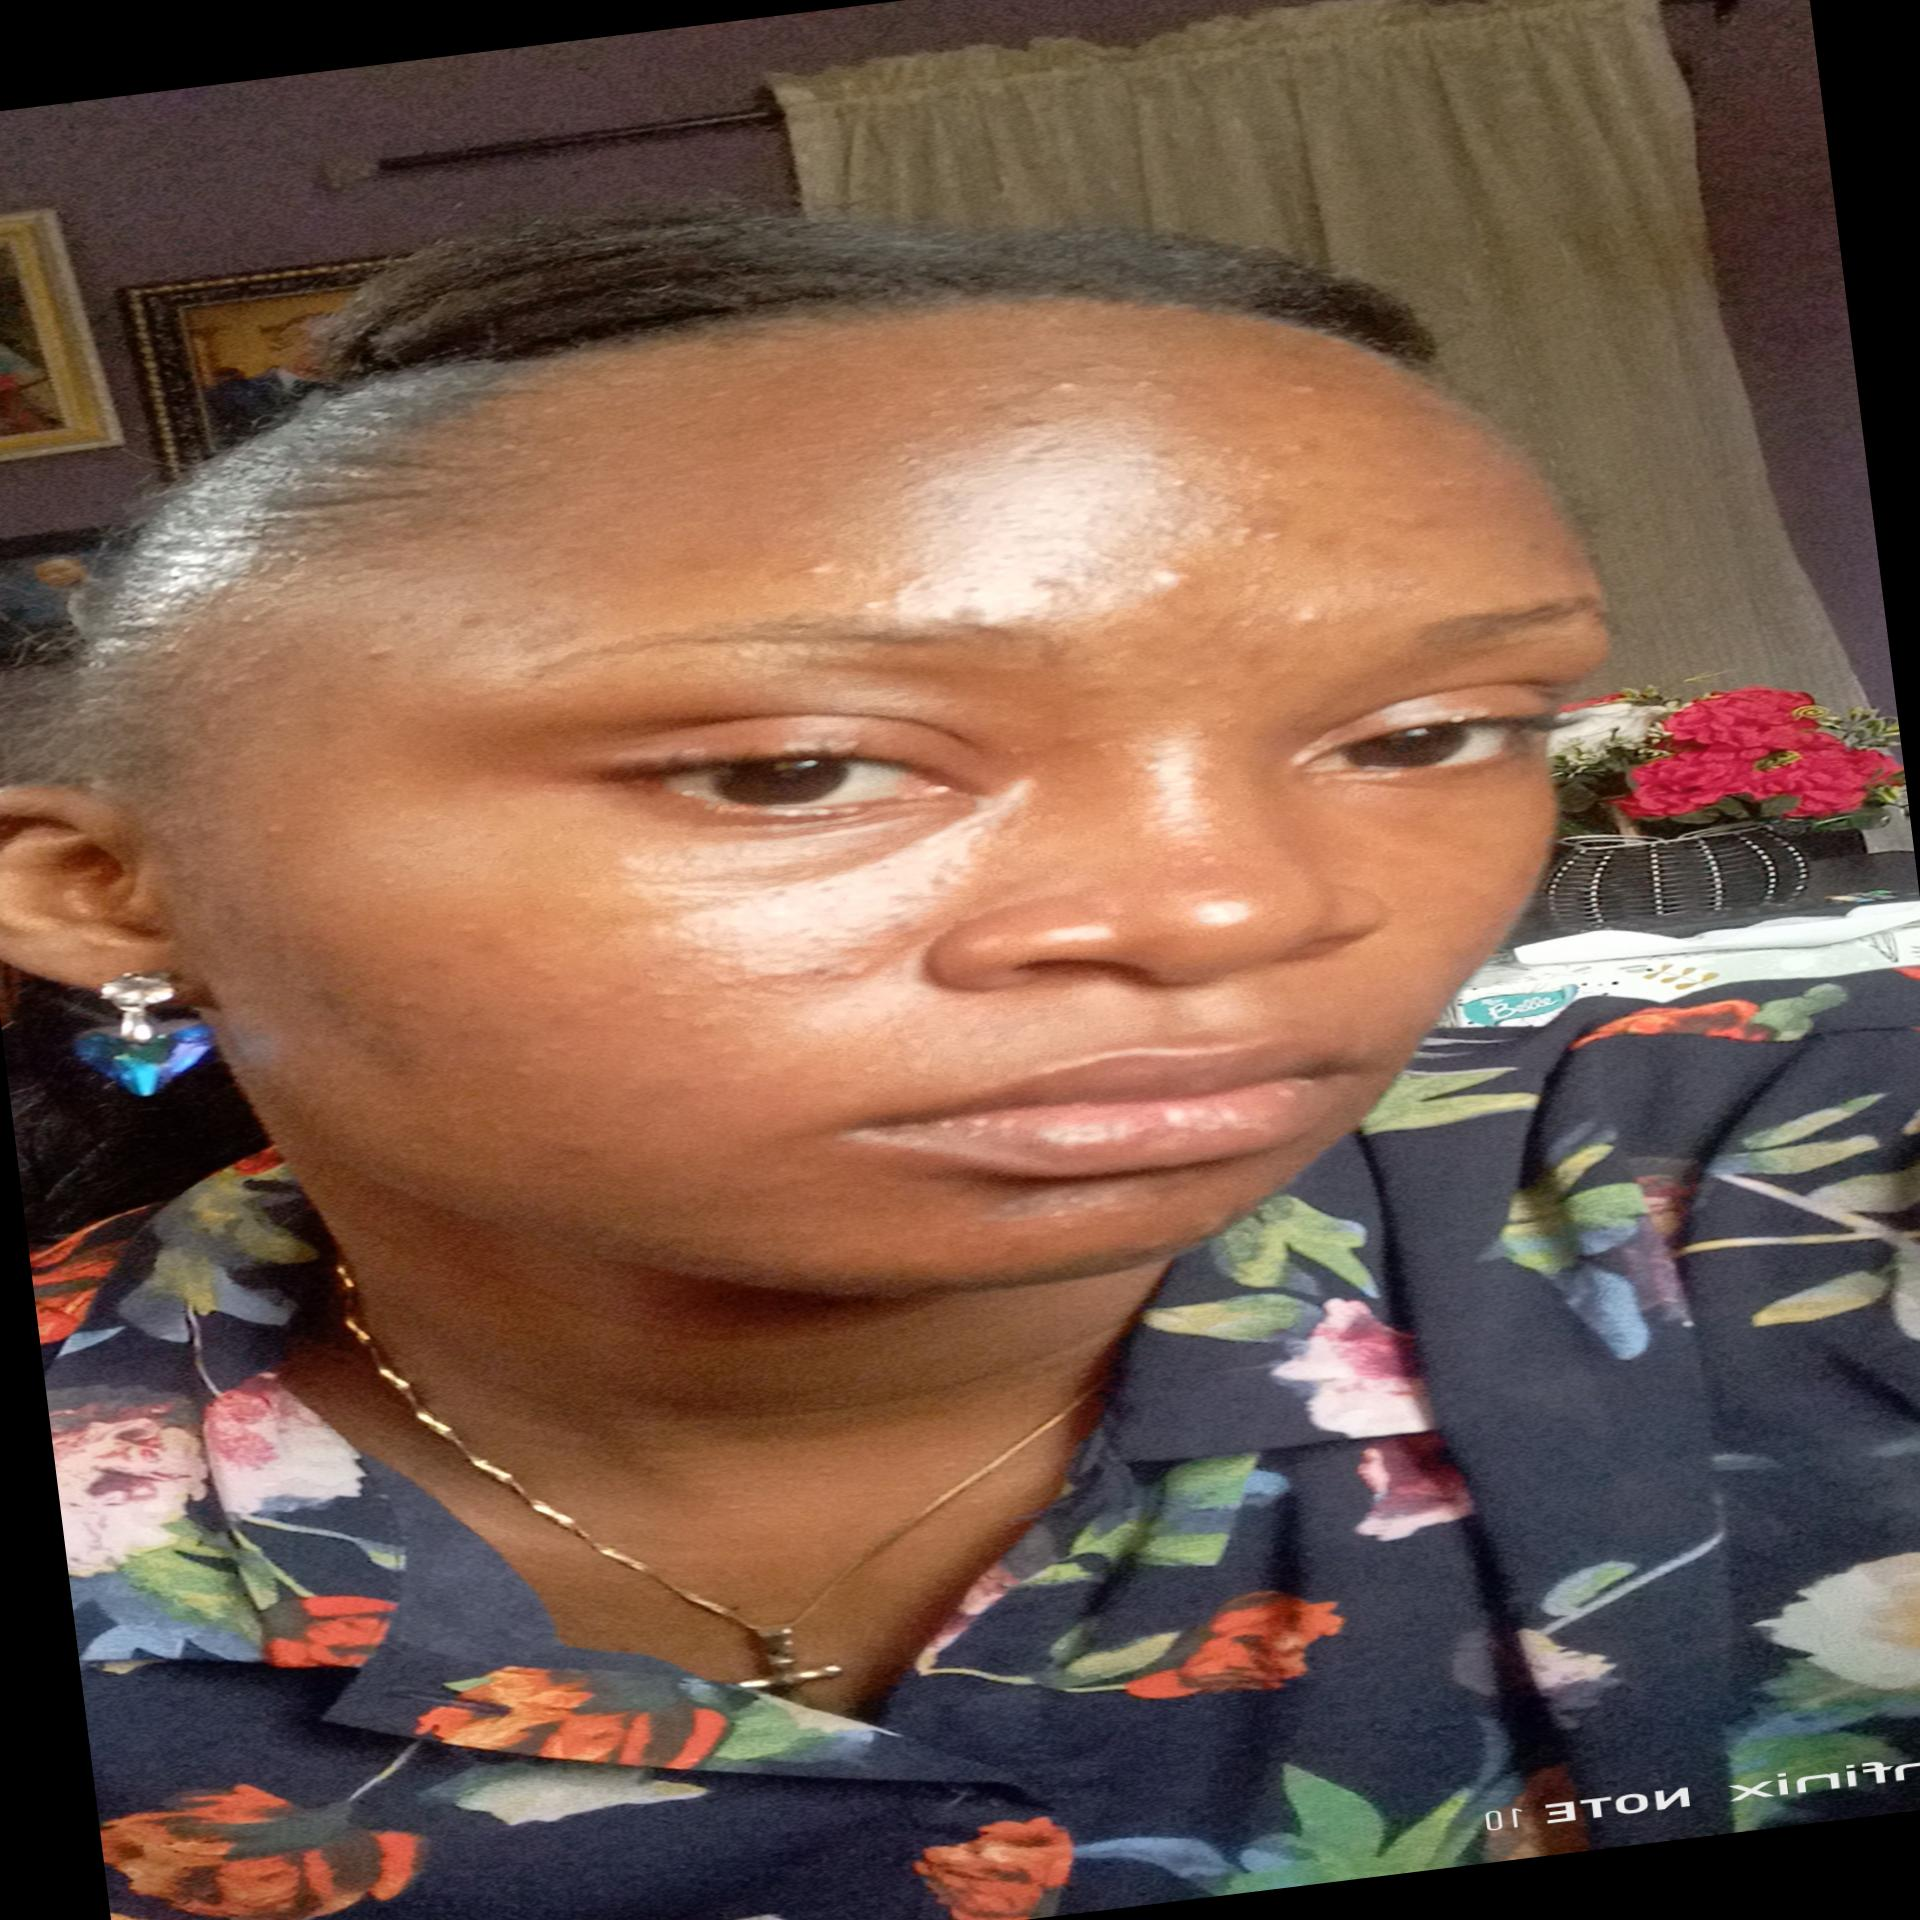Acne: (1166, 464, 1285, 519), (723, 951, 879, 983), (1190, 515, 1296, 550), (877, 862, 962, 905), (1116, 369, 1197, 410), (851, 575, 934, 610), (1373, 503, 1451, 540), (1029, 570, 1088, 610), (1254, 436, 1319, 468), (760, 877, 847, 900), (1146, 559, 1201, 593), (445, 605, 499, 635), (557, 1134, 617, 1160), (789, 556, 842, 582), (953, 601, 1006, 628), (262, 819, 315, 846), (1278, 373, 1324, 401), (390, 990, 440, 1015), (1292, 603, 1338, 628), (1044, 375, 1092, 397), (1134, 443, 1178, 468), (981, 389, 1032, 410), (1055, 726, 1101, 749), (1173, 723, 1218, 744), (1007, 413, 1050, 434), (506, 1057, 540, 1081), (1176, 670, 1215, 691), (1234, 573, 1269, 596), (362, 642, 397, 665), (1125, 756, 1169, 774), (1431, 473, 1470, 492), (1215, 438, 1250, 457), (654, 1009, 689, 1027), (656, 986, 687, 1004), (459, 918, 487, 934), (1194, 1211, 1210, 1234)
